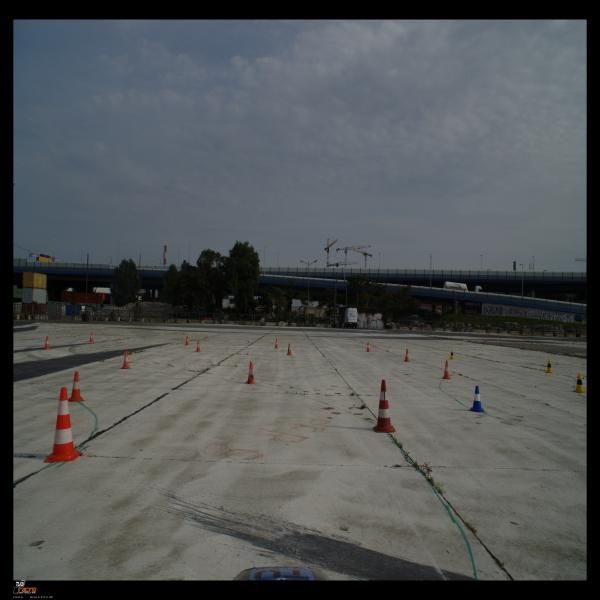blue_cone: (468, 386, 486, 412)
large_orange_cone: (43, 387, 82, 463), (373, 379, 396, 432)
orange_cone: (68, 371, 84, 402), (244, 362, 257, 384), (441, 360, 452, 380), (121, 351, 131, 369), (43, 336, 51, 349), (403, 348, 410, 362), (286, 343, 292, 355), (195, 340, 201, 352), (365, 342, 371, 352), (184, 336, 190, 346), (88, 332, 94, 342), (274, 338, 279, 349)
yellow_cone: (572, 373, 586, 394), (544, 359, 554, 373), (449, 349, 455, 359)
